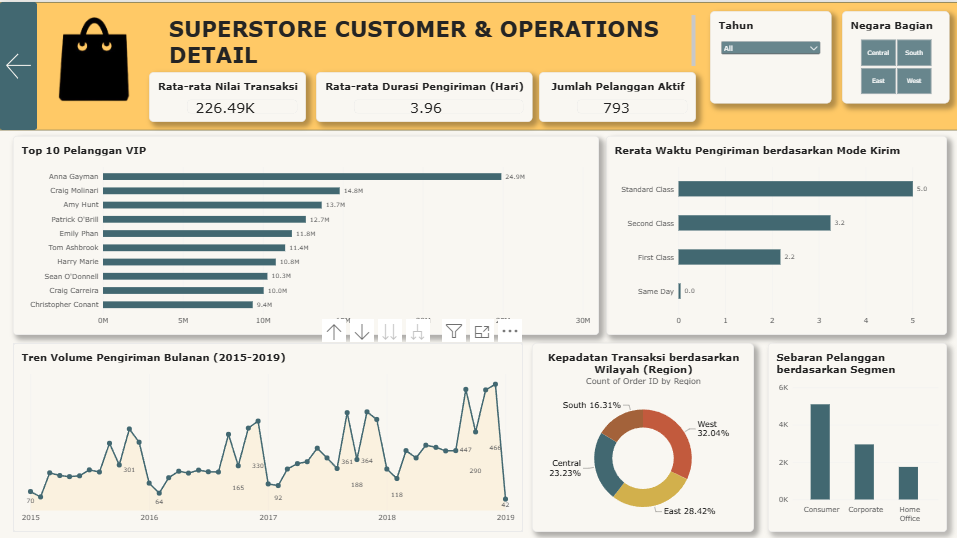

This screenshot's page, from the dashboard's own definition file:
{"tool":"powerbi","page":{"name":"Page 2","canvas":[1920,1080],"ordinal":1},"visuals":[{"type":"shape","box":[0,0,1920,256.7],"z":0},{"type":"cardVisual","title":"Rata-rata  Nilai Transaksi","fields":{"Data":["Fact_Sales.AOV"]},"box":[297.5,140,314,100],"z":1000},{"type":"clusteredBarChart","title":"Rerata Waktu Pengiriman berdasarkan Mode Kirim","fields":{"Category":["Fact_Sales.Ship Mode"],"Y":["Fact_Sales.Lead Time"]},"box":[1211.7,268.3,681.7,398.3],"z":2000},{"type":"clusteredBarChart","title":"Top 10 Pelanggan VIP","fields":{"Category":["Dim_Customer.Customer Name"],"Y":["Fact_Sales.Total Sales"]},"box":[26.7,268.3,1171.7,398.3],"z":3000},{"type":"actionButton","box":[0,0,74,256],"z":4000},{"type":"cardVisual","title":"Rata-rata Durasi Pengiriman (Hari)","fields":{"Data":["Fact_Sales.Lead Time"]},"box":[632.5,140,432.5,100],"z":5000},{"type":"cardVisual","title":"Jumlah Pelanggan Aktif","fields":{"Data":["Count(Dim_Customer.Customer Name)"]},"box":[1077.5,140,314,100],"z":6000},{"type":"stackedAreaChart","title":"Tren Volume Pengiriman Bulanan (2015-2019)","fields":{"Category":["Fact_Sales.Ship Date.Variation.Date Hierarchy.Year","Fact_Sales.Ship Date.Variation.Date Hierarchy.Month"],"Y":["CountNonNull(Fact_Sales.Order ID)"]},"box":[26,682,1020,378],"z":7000},{"type":"slicer","title":"Tahun","fields":{"Values":["Dim_Date.Date.Variation.Date Hierarchy.Year"]},"box":[1420,17.5,242.5,185],"z":8000},{"type":"slicer","title":"Negara Bagian","fields":{"Values":["Fact_Sales.Region"]},"box":[1683.2,17.3,215,185],"z":9000},{"type":"donutChart","title":"Kepadatan Transaksi berdasarkan Wilayah (Region)","fields":{"Category":["Fact_Sales.Region"],"Y":["CountNonNull(Fact_Sales.Order ID)"]},"box":[1064,682,444,378],"z":10000},{"type":"clusteredColumnChart","title":"Sebaran Pelanggan berdasarkan Segmen","fields":{"Category":["Dim_Customer.Segment"],"Y":["CountNonNull(Fact_Sales.Customer ID)"]},"box":[1536,682,358,378],"z":11000},{"type":"textbox","box":[337.5,25,1052.5,102.5],"z":12000},{"type":"image","box":[116,22,146,186],"z":13000}]}

Visuals, with their boxes in screenshot pixels (x1, y1, x2, y2), scaled from the page's 1920x1080 canvas onto the 957x538 screenshot:
shape: [0, 0, 956, 128]
"Rata-rata  Nilai Transaksi" cardVisual: [148, 70, 305, 120]
"Rerata Waktu Pengiriman berdasarkan Mode Kirim" clusteredBarChart: [604, 134, 944, 332]
"Top 10 Pelanggan VIP" clusteredBarChart: [13, 134, 597, 332]
actionButton: [0, 0, 37, 128]
"Rata-rata Durasi Pengiriman (Hari)" cardVisual: [315, 70, 531, 120]
"Jumlah Pelanggan Aktif" cardVisual: [537, 70, 694, 120]
"Tren Volume Pengiriman Bulanan (2015-2019)" stackedAreaChart: [13, 340, 521, 528]
"Tahun" slicer: [708, 9, 829, 101]
"Negara Bagian" slicer: [839, 9, 946, 101]
"Kepadatan Transaksi berdasarkan Wilayah (Region)" donutChart: [530, 340, 752, 528]
"Sebaran Pelanggan berdasarkan Segmen" clusteredColumnChart: [766, 340, 944, 528]
textbox: [168, 12, 693, 64]
image: [58, 11, 131, 104]
